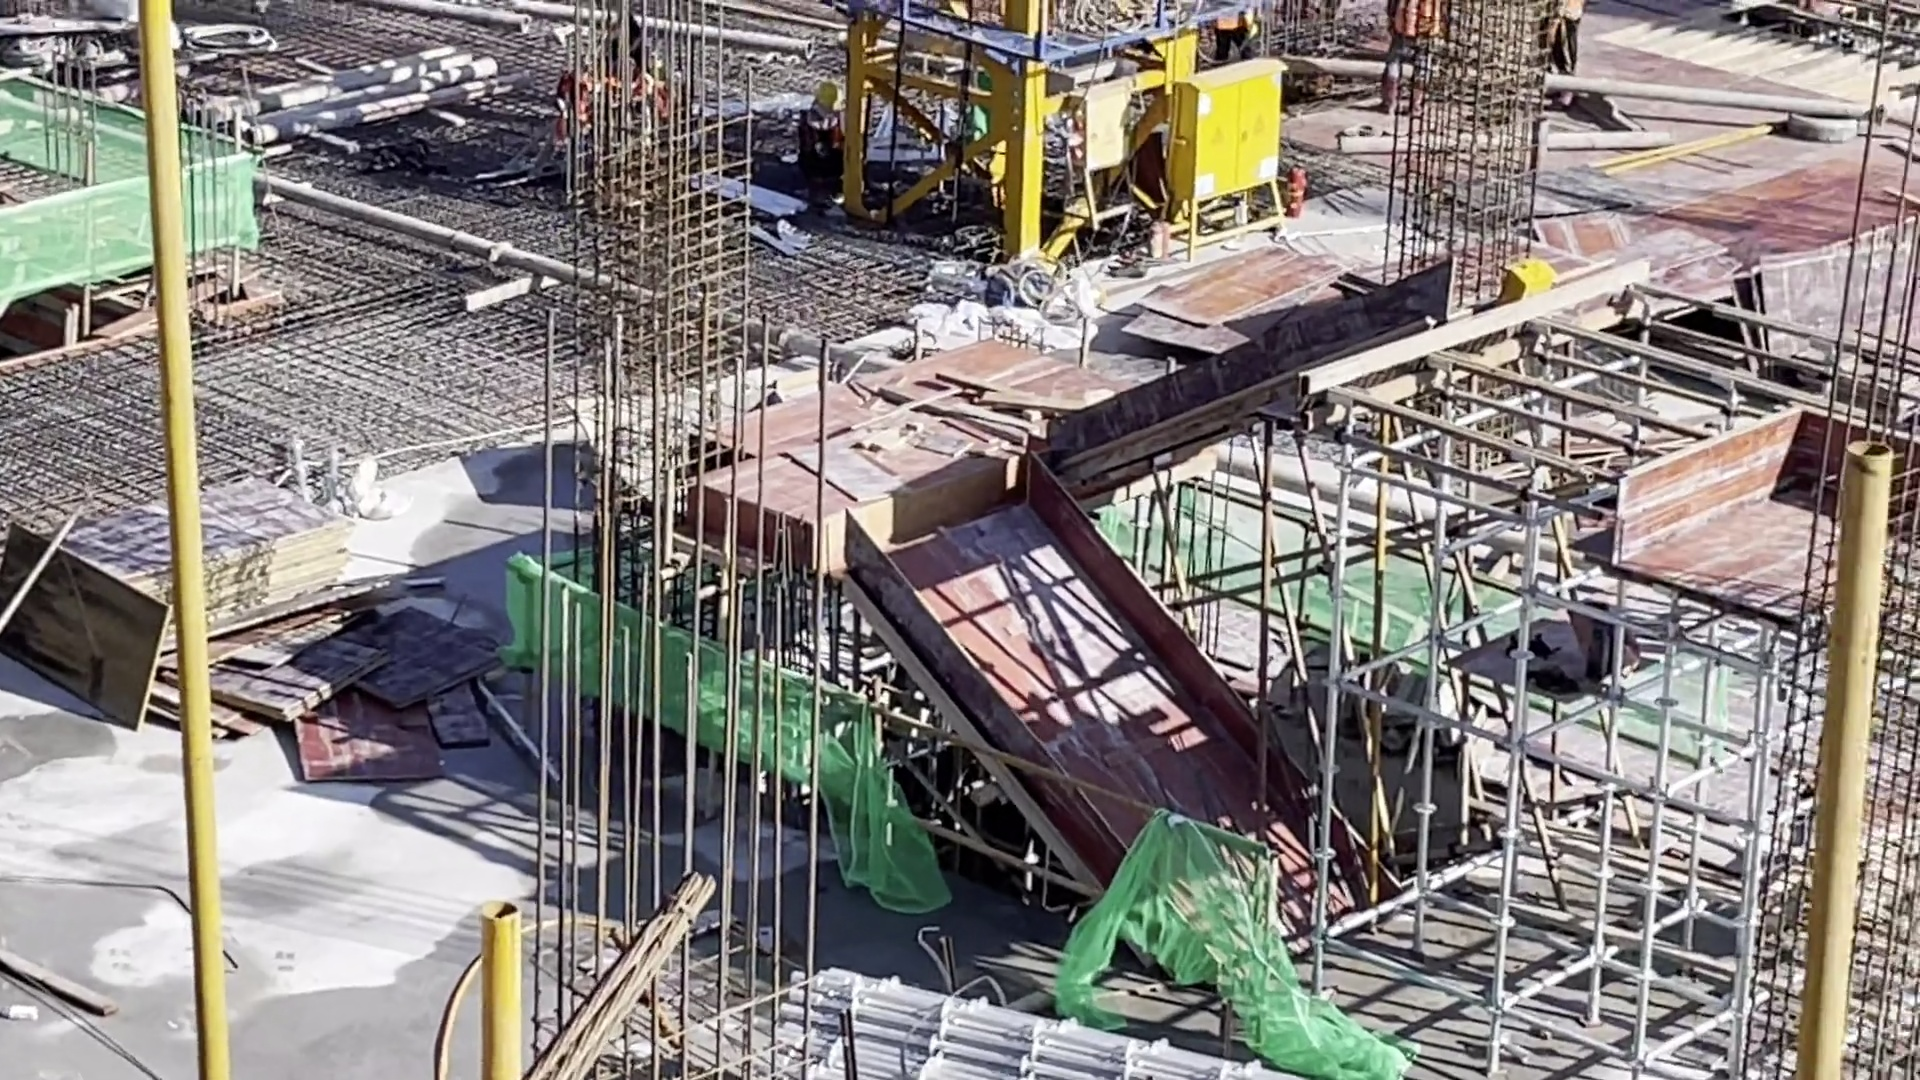helmet: (813, 80, 842, 109)
person: (1376, 1, 1432, 109), (792, 73, 846, 182), (1547, 1, 1583, 107), (1213, 1, 1262, 59)
vest: (806, 99, 851, 157), (1393, 1, 1439, 44), (1222, 1, 1254, 35), (1551, 1, 1572, 24)
